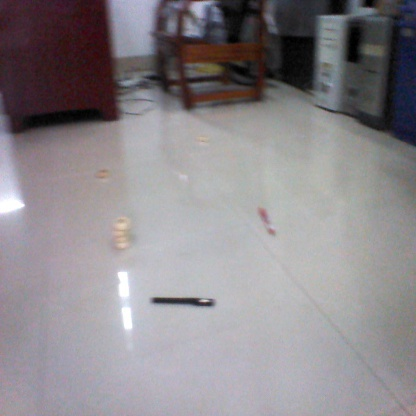chess: (108, 216, 133, 253), (94, 165, 113, 180)
pen: (150, 295, 217, 308), (254, 205, 278, 236)
